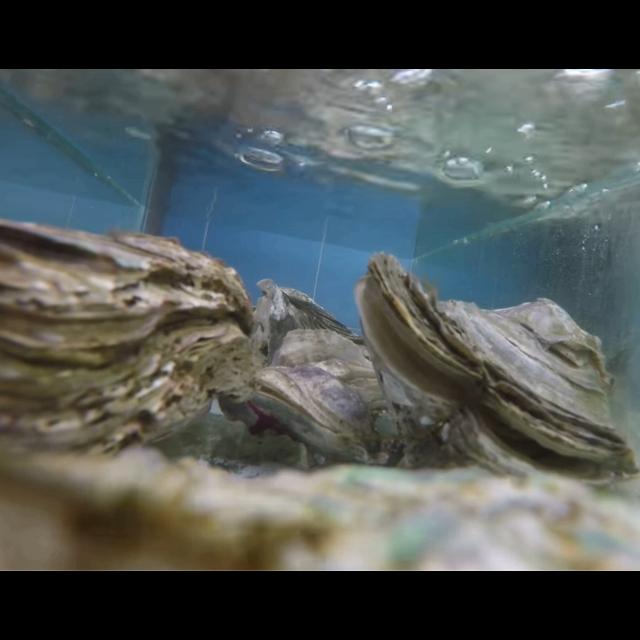Oyster-Closed: (0, 445, 640, 571), (0, 220, 254, 483), (254, 278, 370, 369)
Oyster-Open: (356, 253, 640, 495), (248, 328, 408, 468)
